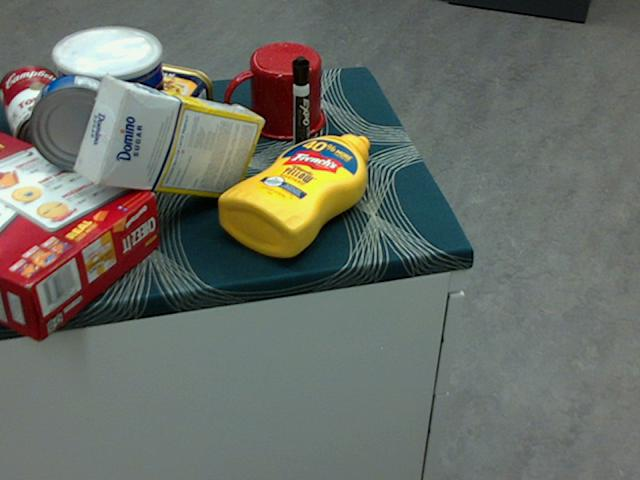cracker_box: (0, 131, 159, 338)
large_marker: (290, 56, 310, 161)
master_chef_can: (54, 28, 168, 198)
mug: (223, 43, 323, 141)
mustard_bottle: (218, 133, 369, 257)
potted_meat_can: (101, 60, 213, 148)
sugar_box: (74, 79, 263, 198)
tomato_soup_can: (1, 63, 79, 163)
tuna_fish_can: (28, 75, 125, 172)
